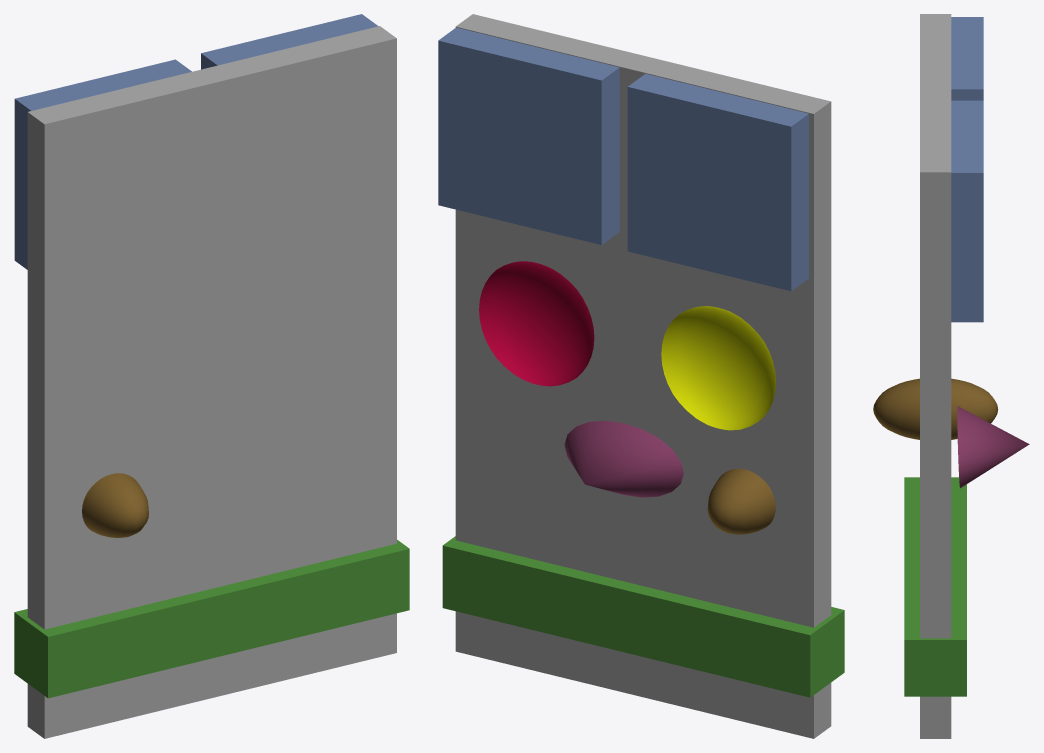
File: CB-door2.fbx
3 renders of one model, left to right at view 1: azimuth 30°, elevation 25°; view 2: azimuth 150°, elevation 25°; view 3: azimuth 270°, elevation 25°, orthographic. The views are drawn at different scales.
Visible parts, largest first — view 1: pCube4, pCube5, pasted__pasted__pCube4, pSphere3, pasted__pCube4; view 2: pCube4, pasted__pCube4, pasted__pasted__pCube4, pCube5, pCone1, pSphere3; view 3: pCube4, pCube5, pasted__pCube4, pSphere3, pCone1, pasted__pasted__pCube4.
Boxes of the visible parts, box(x1,y1,x2,y2) form: pCube4: box(27, 26, 396, 738); pCube5: box(14, 539, 409, 698); pasted__pasted__pCube4: box(14, 59, 191, 269); pSphere3: box(82, 473, 148, 537); pasted__pCube4: box(201, 14, 378, 69); pCube4: box(455, 14, 831, 738); pasted__pCube4: box(438, 27, 619, 244); pasted__pasted__pCube4: box(627, 73, 808, 291); pCube5: box(442, 536, 844, 697); pCone1: box(564, 420, 683, 497); pSphere3: box(707, 468, 775, 534); pCube4: box(920, 14, 951, 738); pCube5: box(904, 477, 966, 696); pasted__pCube4: box(951, 100, 983, 322); pSphere3: box(873, 378, 998, 439); pCone1: box(957, 406, 1029, 488); pasted__pasted__pCube4: box(951, 17, 983, 100).
Size of the model in its own units: 6.16 by 10 by 2.51.
